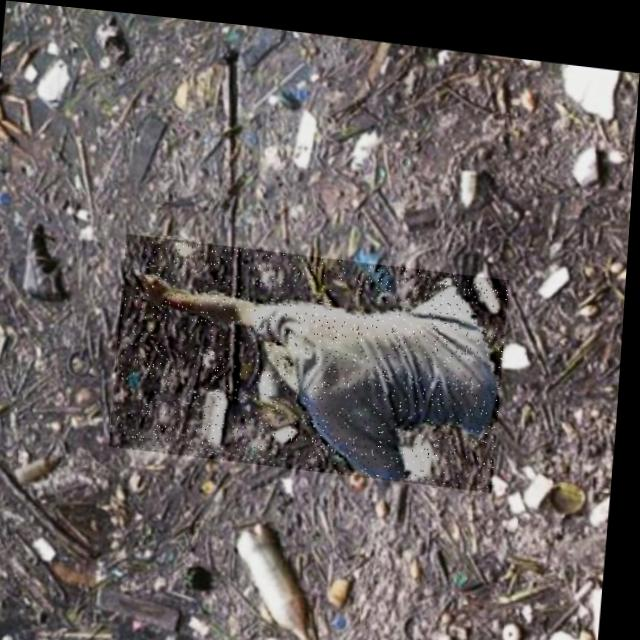Person in Rubble: (114, 229, 513, 480)
